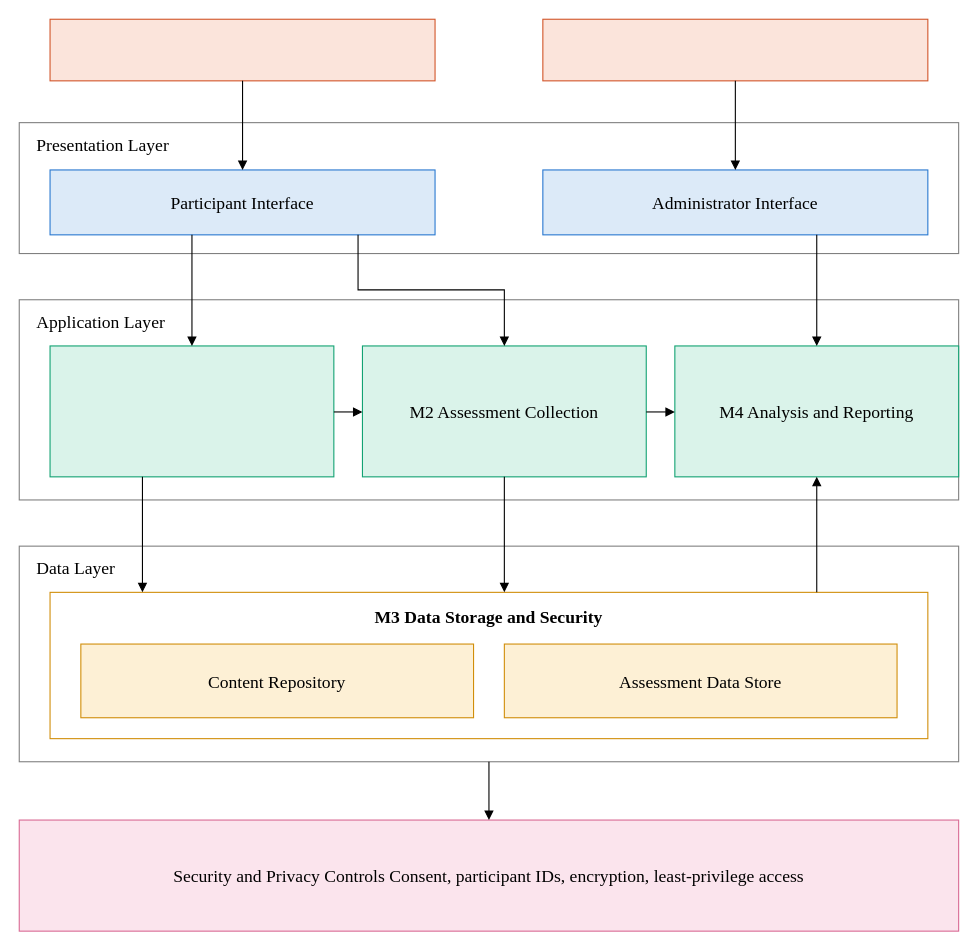
Image size: 978x950. Some labels were removed from this diagram. Each missing label, with the centre of its shape:
"M1 Training Delivery" goes at point 191,411.
"Participant" goes at point 242,49.
"Researcher" goes at point 735,49.
